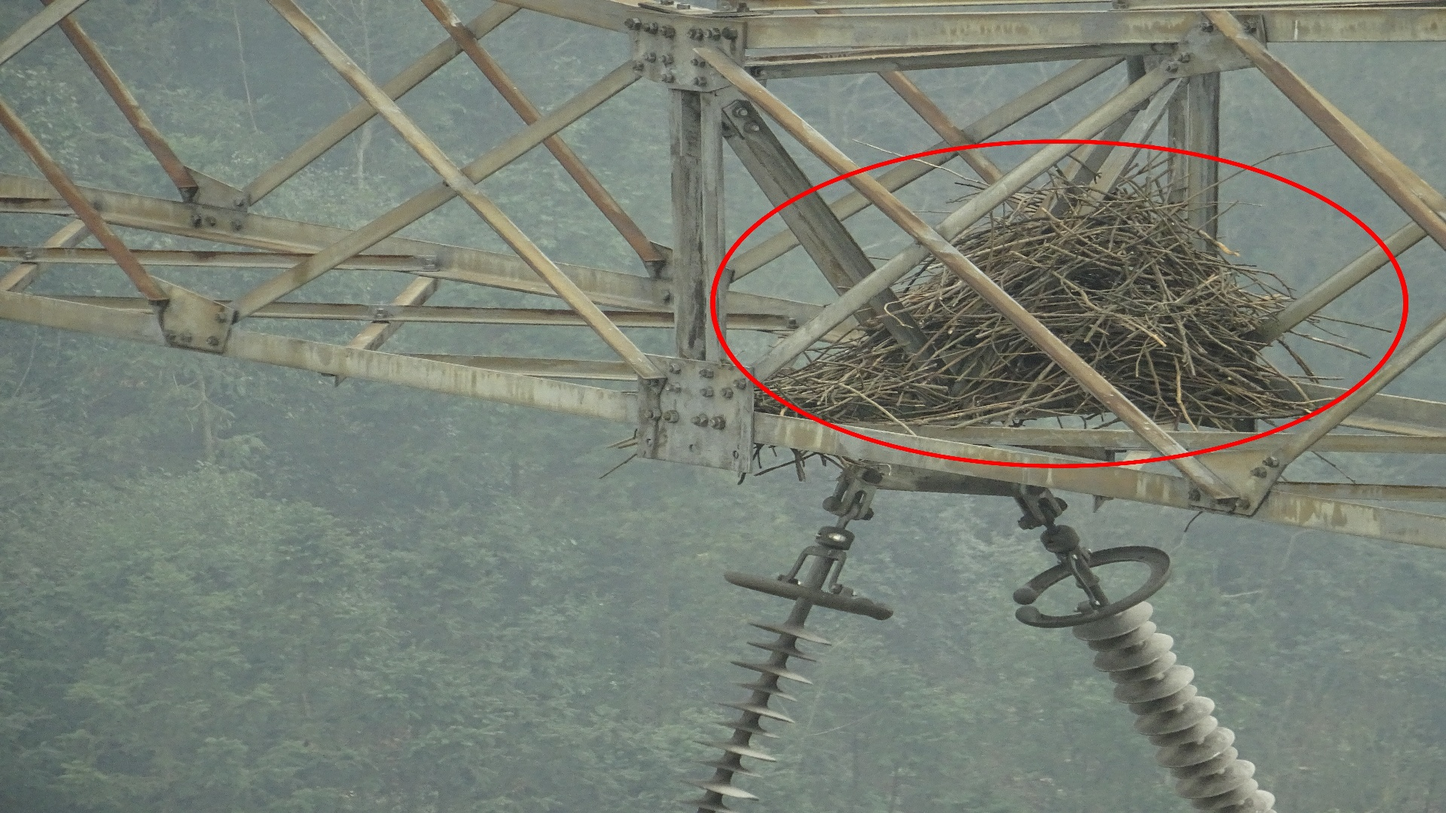insulator: (1068, 592, 1291, 813), (674, 611, 837, 813)
